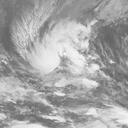cyclone: (29, 20, 89, 74)
